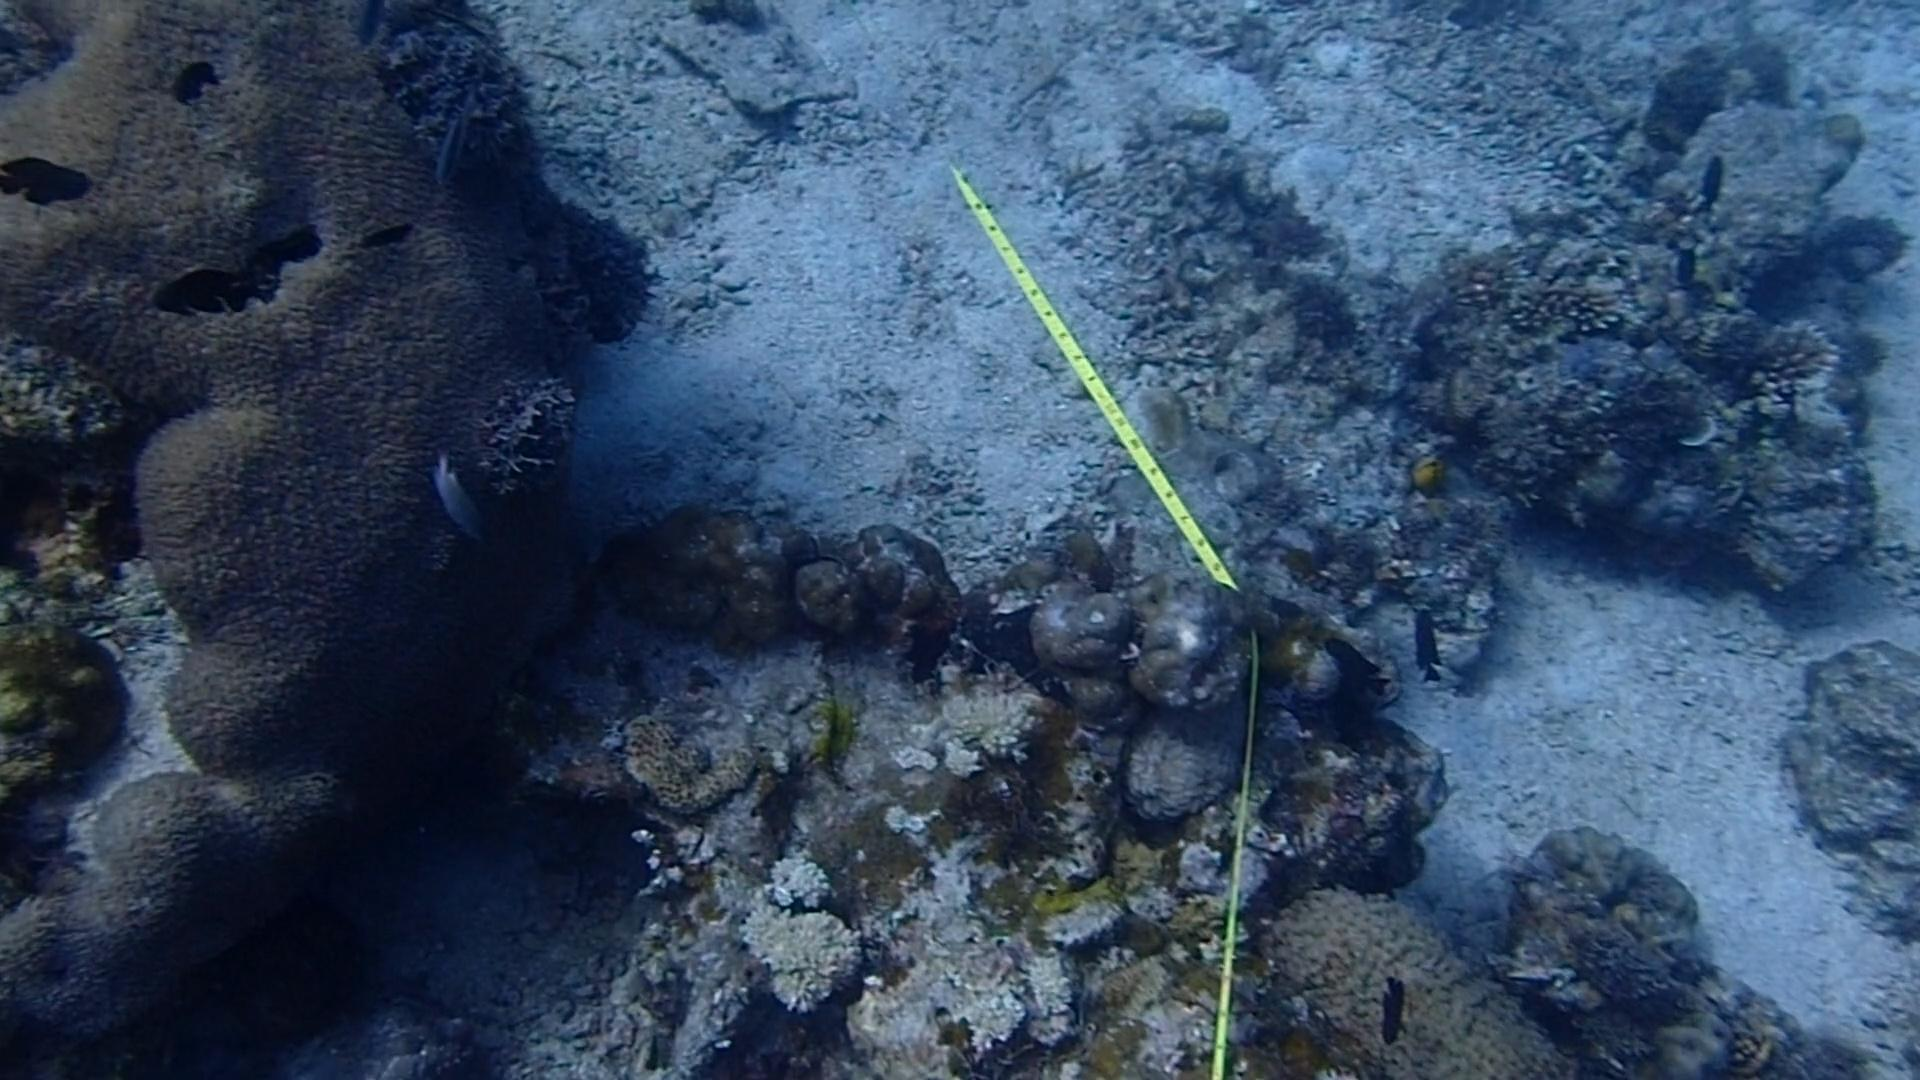Dark Fish: (138, 253, 260, 323), (1383, 595, 1462, 687), (0, 150, 92, 224), (1312, 626, 1398, 700), (157, 51, 236, 112), (1362, 971, 1424, 1039), (360, 210, 422, 274), (1656, 232, 1716, 291), (1680, 150, 1743, 204)
Light Fish: (407, 444, 484, 554), (421, 74, 479, 191)
